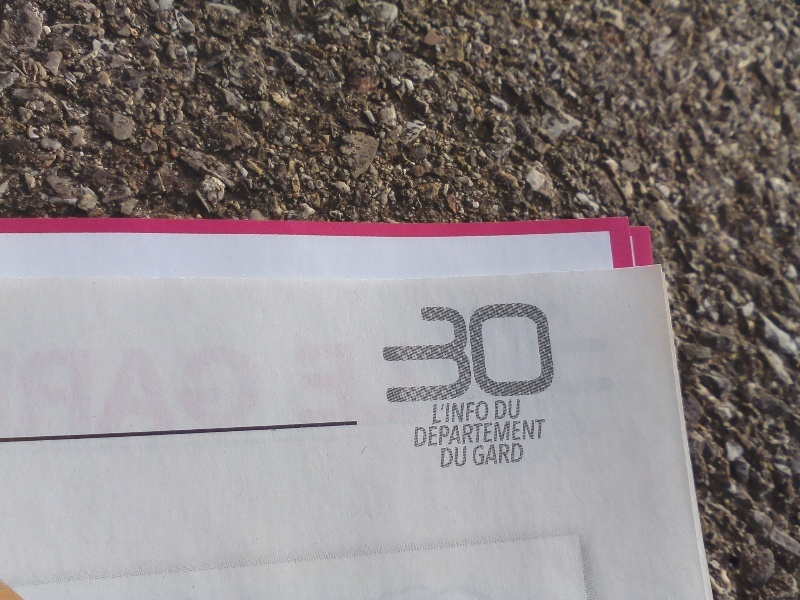text: (385, 295, 400, 407), (401, 295, 416, 407), (417, 295, 432, 407), (433, 295, 448, 407), (449, 295, 464, 407), (465, 295, 480, 407), (481, 295, 496, 407), (497, 295, 512, 407), (513, 295, 528, 407), (529, 295, 544, 407), (33, 342, 48, 443), (49, 342, 64, 443), (65, 342, 80, 443), (81, 342, 96, 443), (97, 342, 112, 443), (113, 342, 128, 443), (129, 342, 144, 443), (145, 342, 160, 443), (161, 342, 176, 443), (177, 342, 192, 443), (193, 342, 208, 443), (209, 342, 224, 443), (225, 342, 240, 443), (241, 342, 256, 443), (257, 342, 272, 443), (273, 342, 288, 443), (289, 342, 304, 443), (305, 342, 320, 443), (321, 342, 336, 443), (337, 342, 352, 443), (545, 295, 556, 407), (20, 342, 32, 443), (353, 342, 361, 443), (417, 418, 432, 449), (433, 418, 448, 449), (449, 418, 464, 449), (465, 418, 480, 449), (481, 418, 496, 449), (497, 418, 512, 449), (513, 418, 528, 449), (529, 418, 544, 449), (380, 295, 384, 407), (433, 401, 448, 425), (449, 401, 464, 425), (465, 401, 480, 425), (449, 444, 464, 468), (481, 442, 496, 466), (497, 442, 512, 466), (497, 398, 512, 421), (513, 442, 525, 466), (481, 401, 490, 425), (513, 398, 522, 421), (442, 444, 448, 468), (474, 442, 480, 466), (412, 418, 416, 449), (545, 418, 547, 449), (465, 444, 467, 468), (431, 401, 432, 425), (495, 398, 496, 421)
